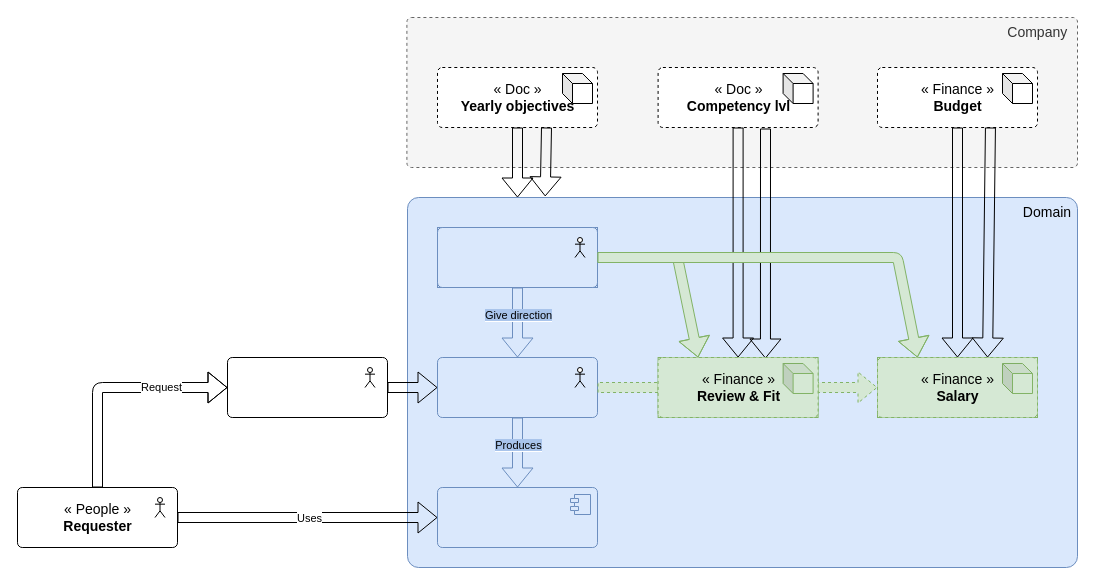
This 1095x585 diagram has some shape labels left out. The centre of each missing label's shape, as x and y in pixels:
« Artifact » Services: the point at 517,517
« People » Eng Manager: the point at 517,257
« People » Eng team: the point at 517,387
« People » Product manager: the point at 307,387
